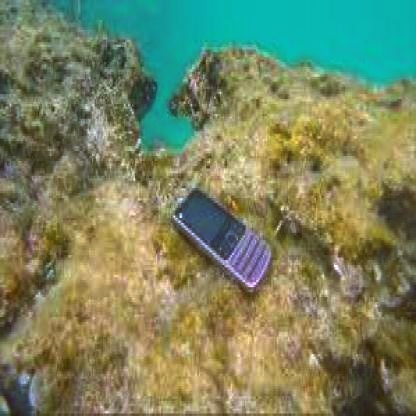cellphone: (172, 188, 272, 302)
